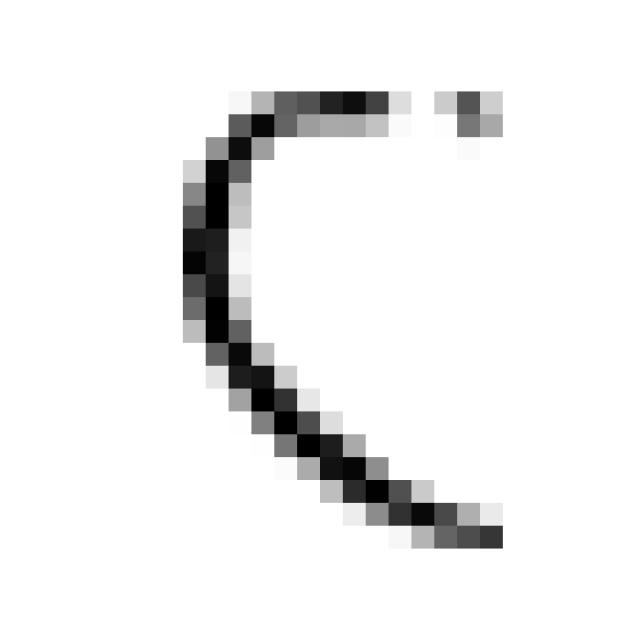2 -two-: (162, 57, 532, 572)
